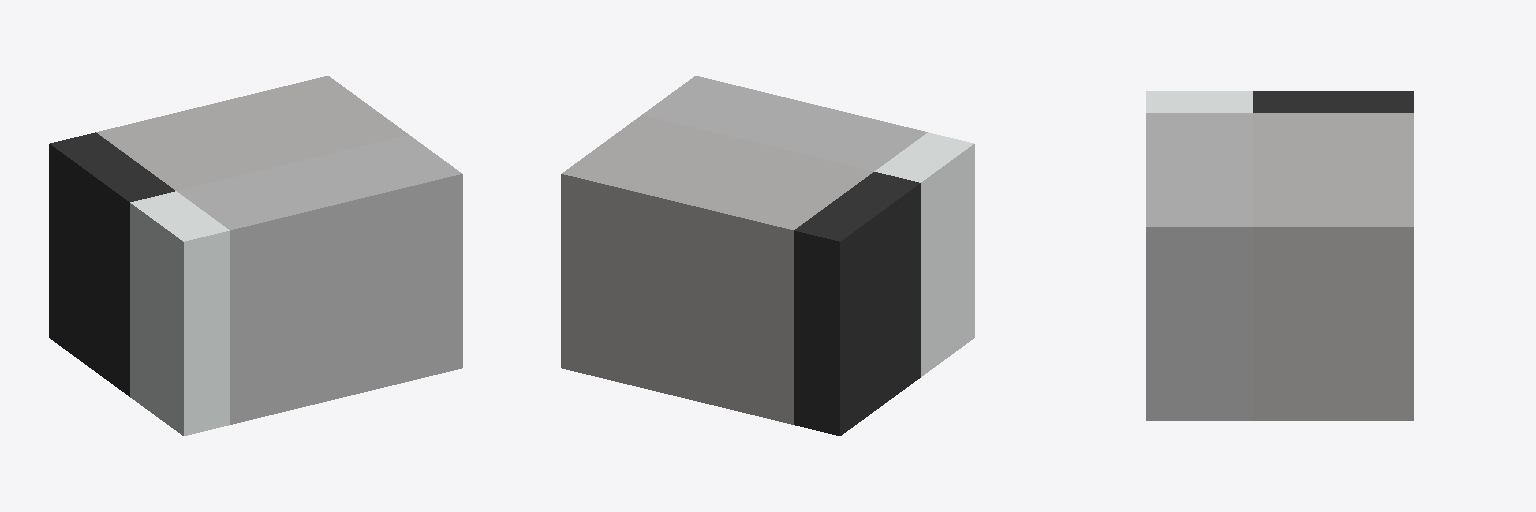
File: block_asm.obj
3 views of the same model, side by side, from view 1: azimuth 30°, elevation 25°; view 2: azimuth 150°, elevation 25°; view 3: azimuth 270°, elevation 25° (orthographic).
Visible parts, largest first — view 1: Solid1:3, Solid1:2, Solid1:1, Solid1; view 2: Solid1, Solid1:1, Solid1:2, Solid1:3; view 3: Solid1, Solid1:3, Solid1:1, Solid1:2.
Boxes of the visible parts, <box> form: Solid1:3: <box>177,135,462,424</box>; Solid1:2: <box>130,191,229,435</box>; Solid1:1: <box>49,132,174,396</box>; Solid1: <box>96,76,408,190</box>; Solid1: <box>561,115,873,424</box>; Solid1:1: <box>794,172,920,435</box>; Solid1:2: <box>874,132,974,376</box>; Solid1:3: <box>642,76,927,170</box>; Solid1: <box>1253,113,1413,420</box>; Solid1:3: <box>1146,113,1252,420</box>; Solid1:1: <box>1253,91,1413,112</box>; Solid1:2: <box>1146,91,1252,112</box>.
Size of the model in its own units: 12 by 8 by 10.